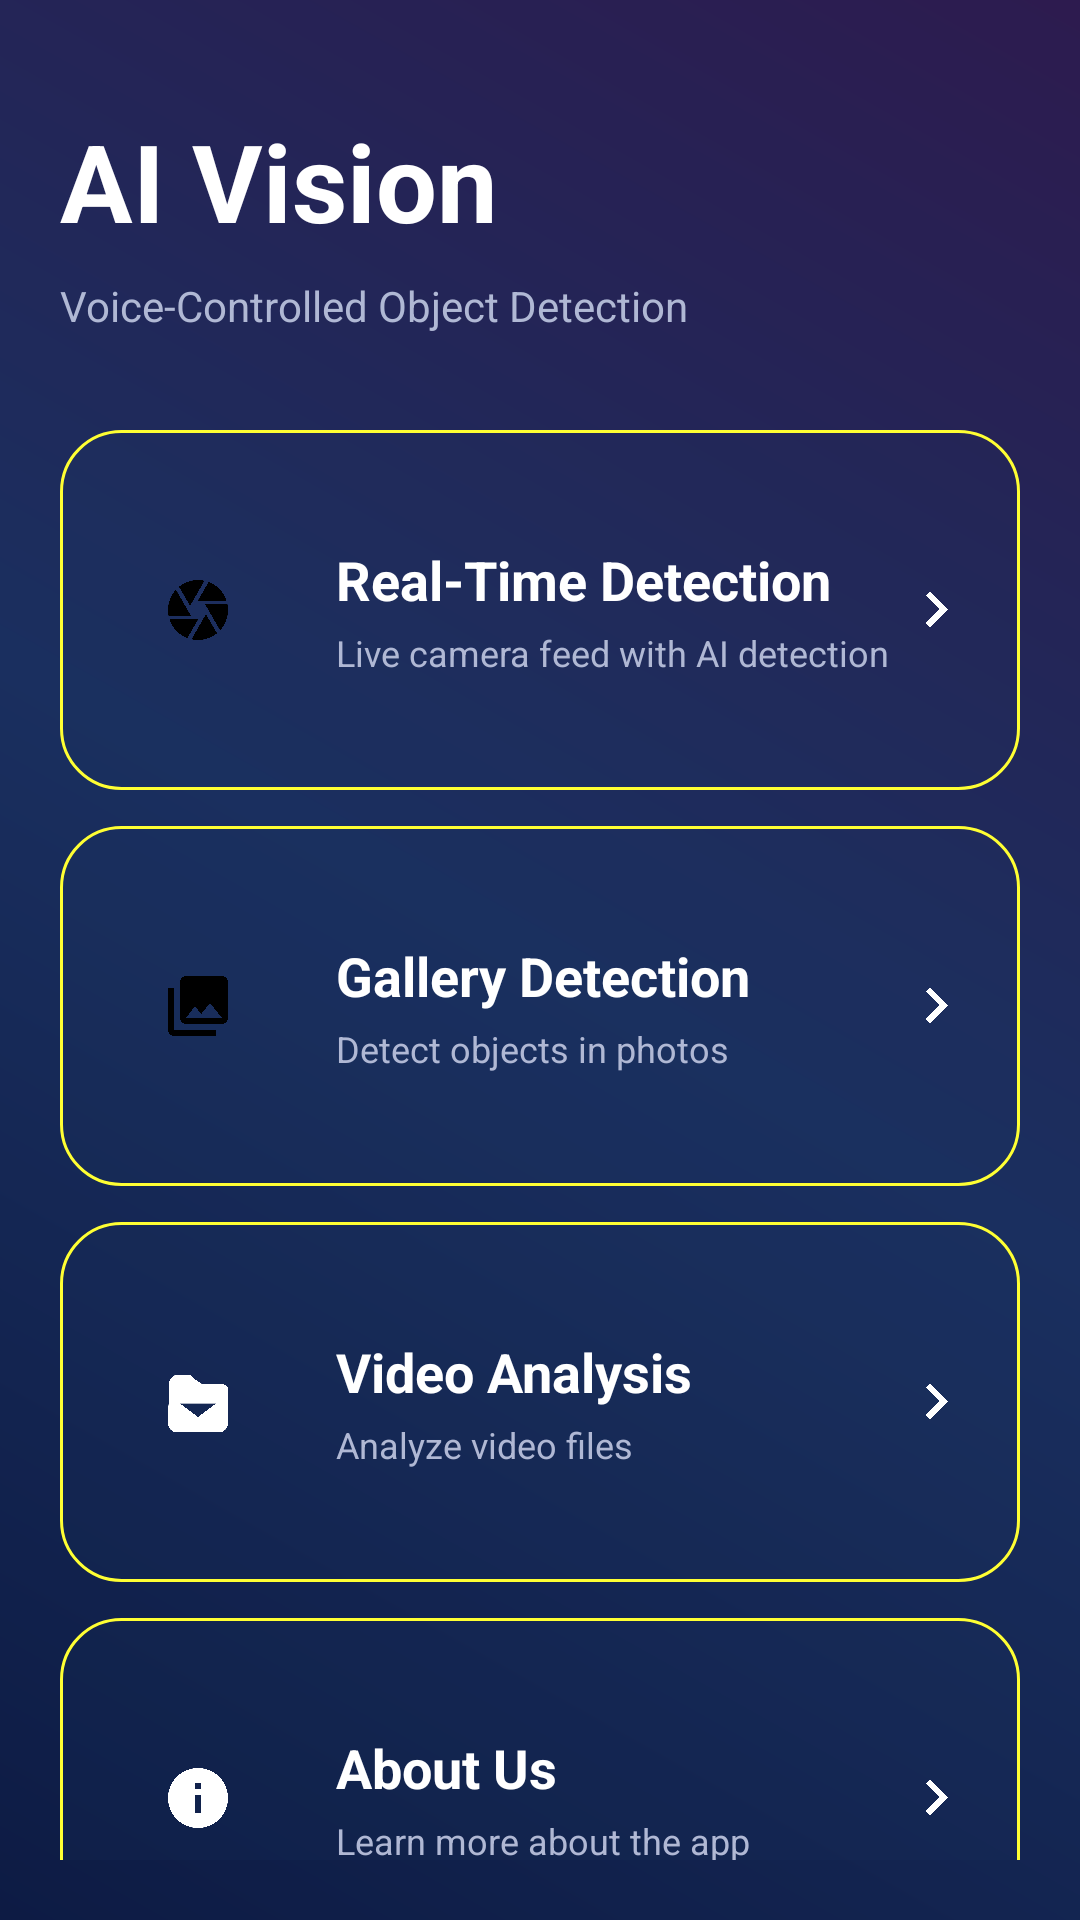

Named icons in this screenshot (1080px x 1920px) and their bounding boxes, (x1=x1, y1=y1, x2=x2, y2=y2):
arrow right: (x1=926, y1=592, x2=948, y2=627), (x1=926, y1=988, x2=948, y2=1023), (x1=926, y1=1384, x2=948, y2=1419), (x1=926, y1=1780, x2=948, y2=1815)
info: (x1=168, y1=1768, x2=228, y2=1828)
